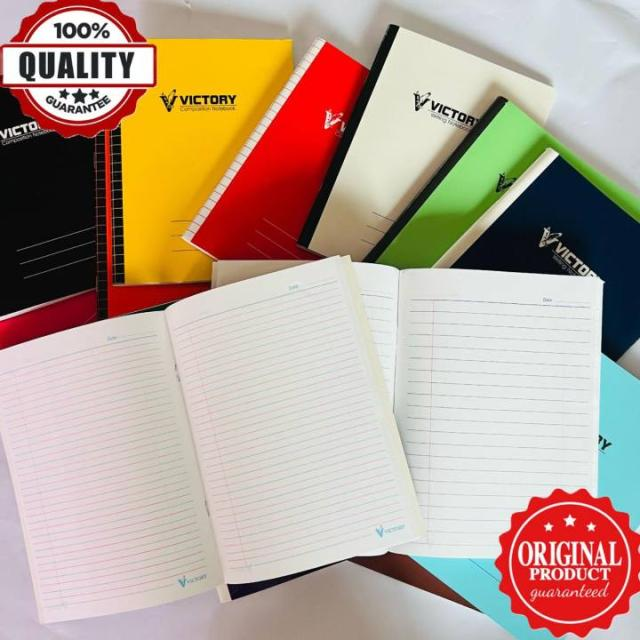notebook: (5, 246, 446, 620), (187, 234, 626, 560), (141, 37, 635, 286)
